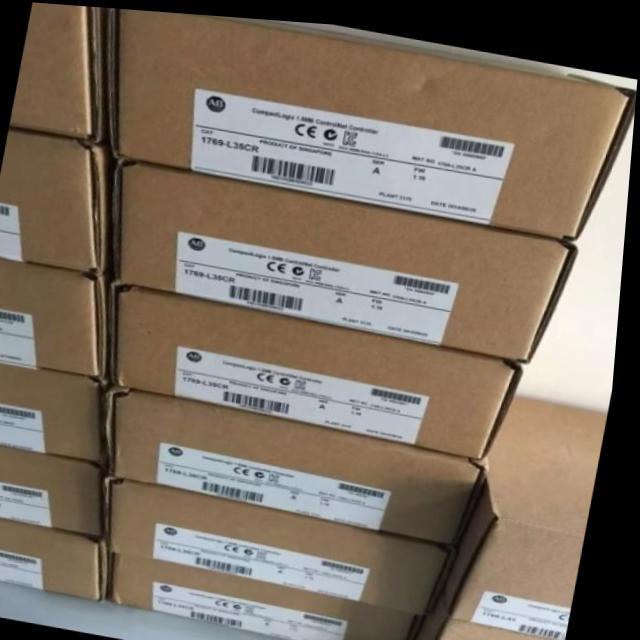box: (108, 6, 637, 232), (115, 156, 585, 355), (111, 279, 531, 453), (108, 383, 495, 540), (107, 474, 466, 607), (450, 387, 614, 633), (116, 550, 432, 640), (0, 127, 112, 274), (11, 2, 109, 141), (0, 259, 112, 378), (0, 362, 113, 464), (0, 443, 111, 536), (0, 515, 117, 601), (423, 583, 574, 640)
